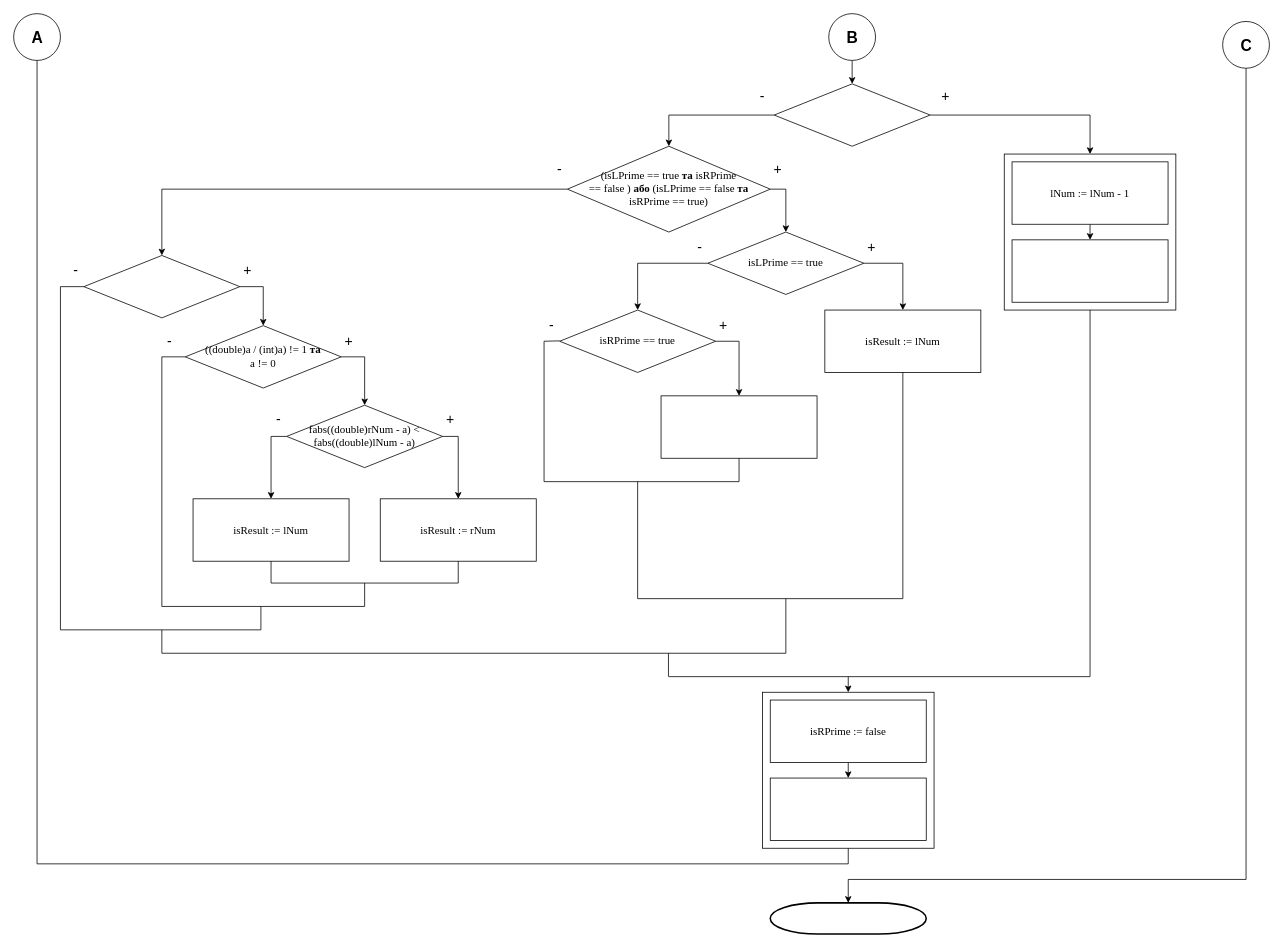
This 1283x948 diagram has some shape labels left out. The shapes that lost their labels are listed below. From the top down, each one's centre as x and y in pixels, then its label:
[851,114]: isLPrime == false та isRPrime == false
[161,286]: isLPrime == true та isRPrime == true
[1089,270]: rNum : = rNum + 1
[738,426]: isResult : = r Num
[847,808]: isLPrime : = false
[848,918]: кінець
